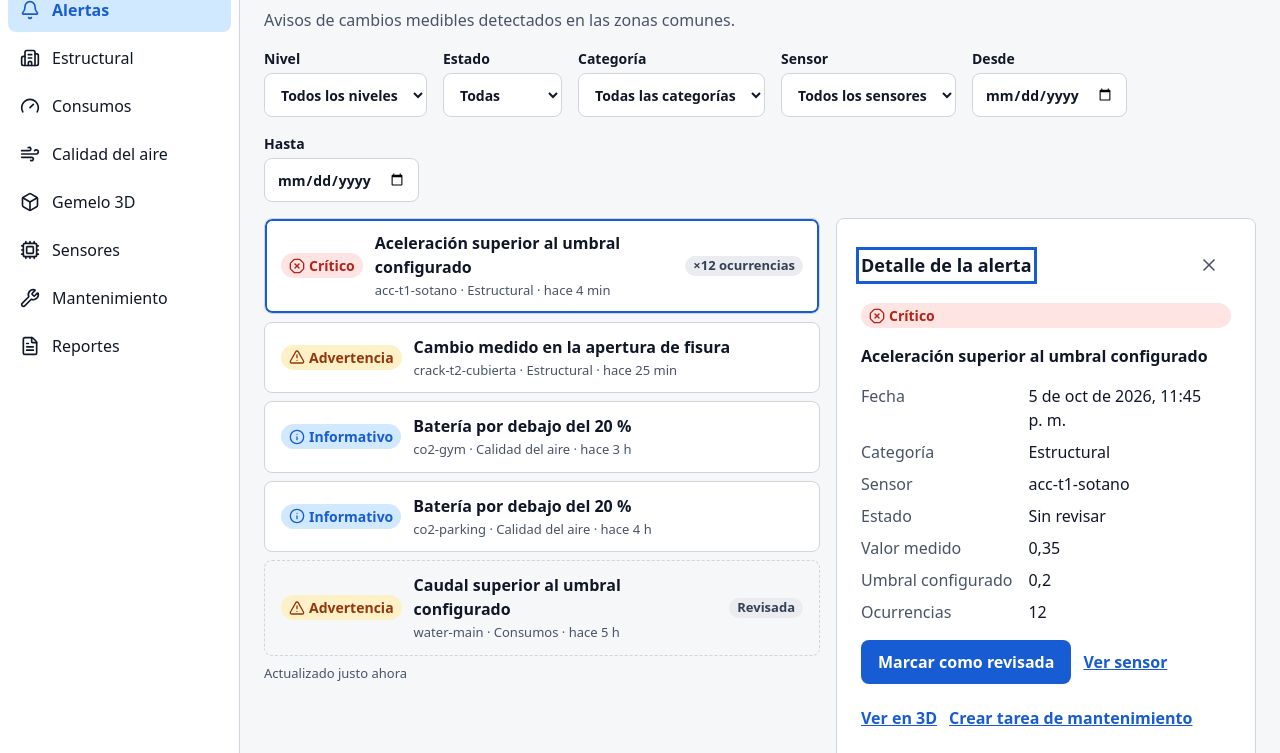
Test case: fallo del acuse que sobrevive al cierre del panel › con el panel abierto el error también se muestra en línea
(page scrolled)
Expected: the text "Aceleración superior al umbral configurado" below "Detalle de la alerta" is shown, [861,345,1208,367]
Click the button "Marcar como revisada".
click(966, 662)  # box [861,640,1071,684]
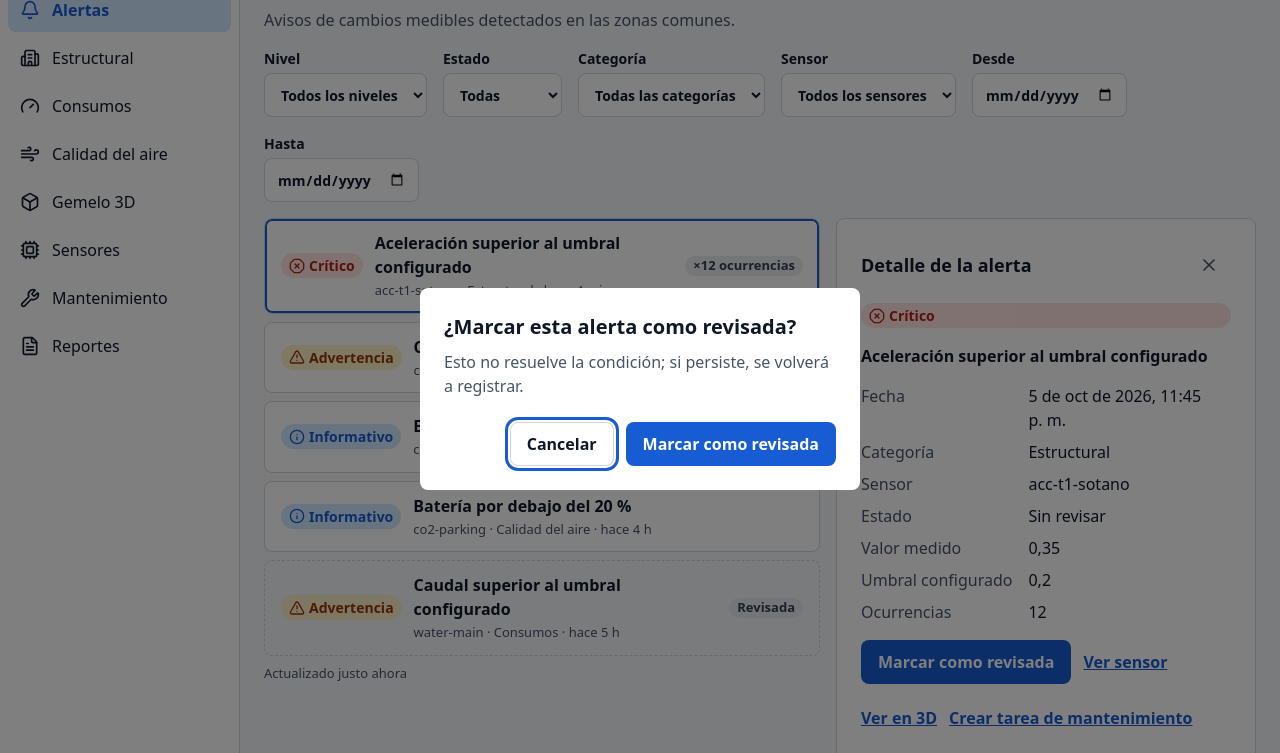
Click the button "Marcar como revisada".
click(731, 444)  # box [626,422,836,466]
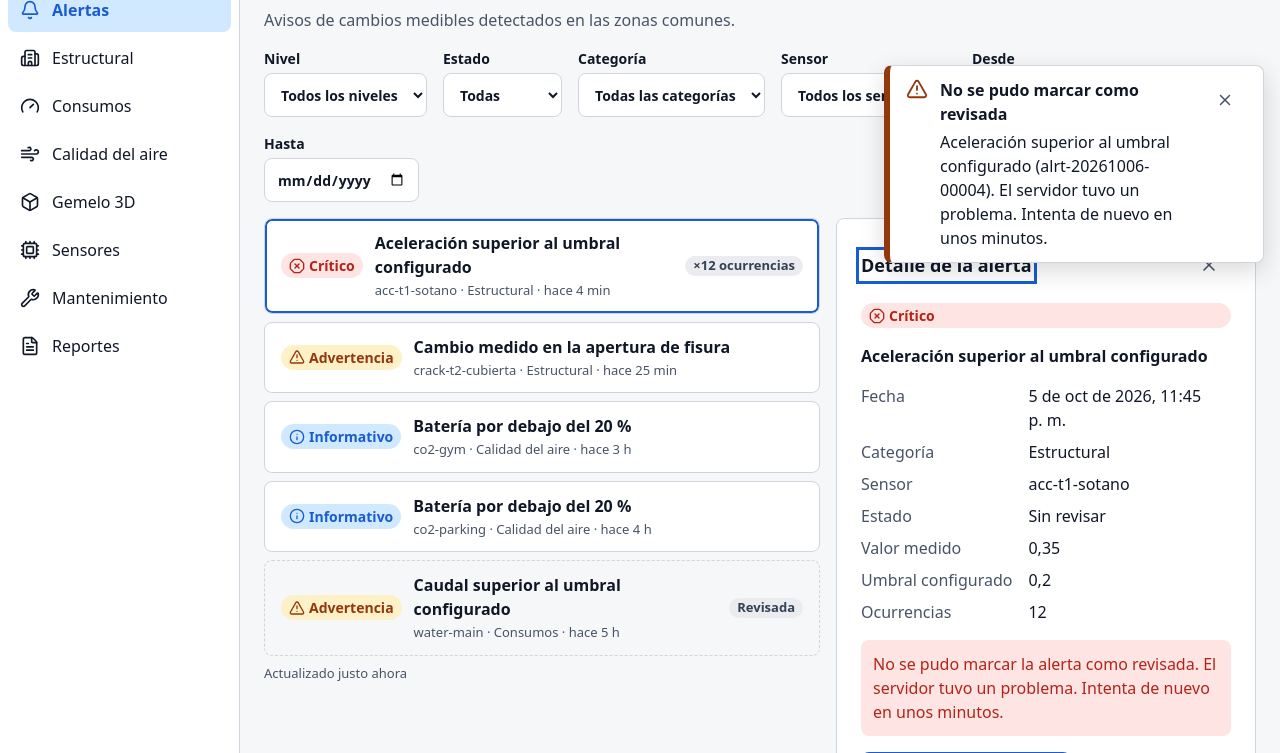
Result: the 2nd message shows "No se pudo marcar la alerta como revisada." at [873,653,1216,723]
Result: the text "No se pudo marcar como revisada" is shown at [940,79,1139,125]
